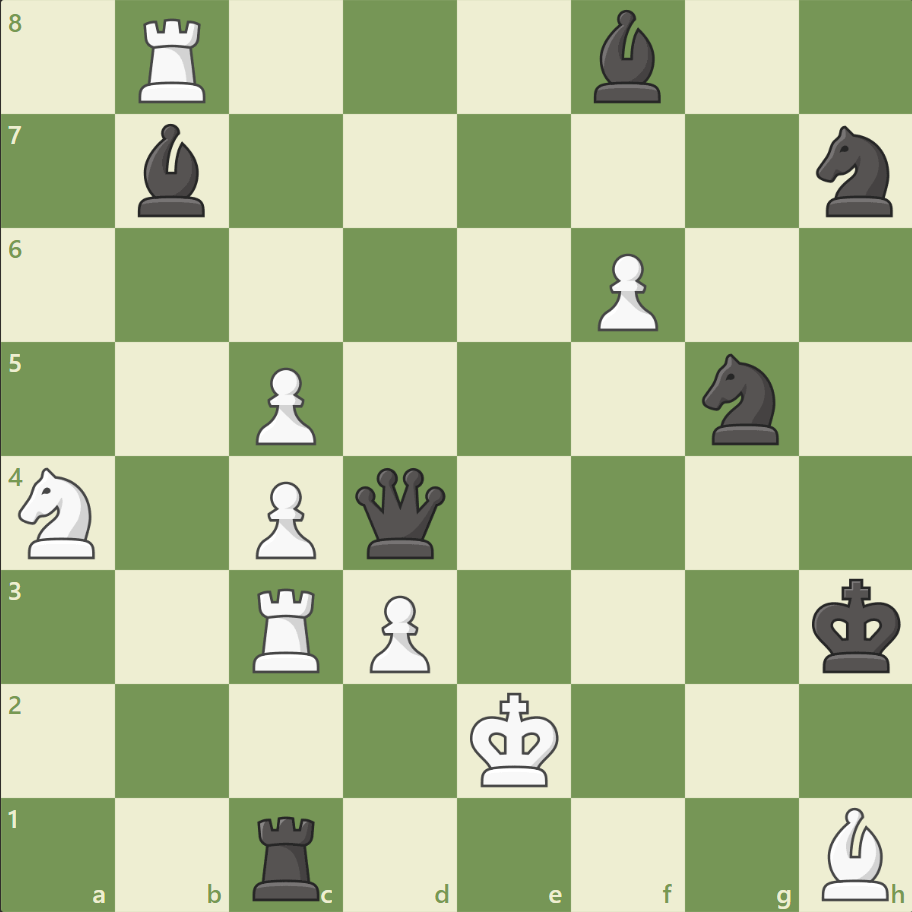B: (812, 801, 896, 904)
K: (465, 685, 565, 793)
N: (11, 461, 108, 564)
P: (247, 359, 322, 450), (247, 473, 322, 564), (588, 246, 662, 337), (361, 586, 435, 677)
R: (246, 579, 329, 676), (133, 12, 215, 109)
b: (585, 6, 669, 109), (131, 120, 215, 222)
k: (806, 571, 906, 679)
n: (806, 121, 903, 223), (692, 348, 789, 450)
q: (351, 463, 450, 562)
r: (246, 806, 329, 904)
